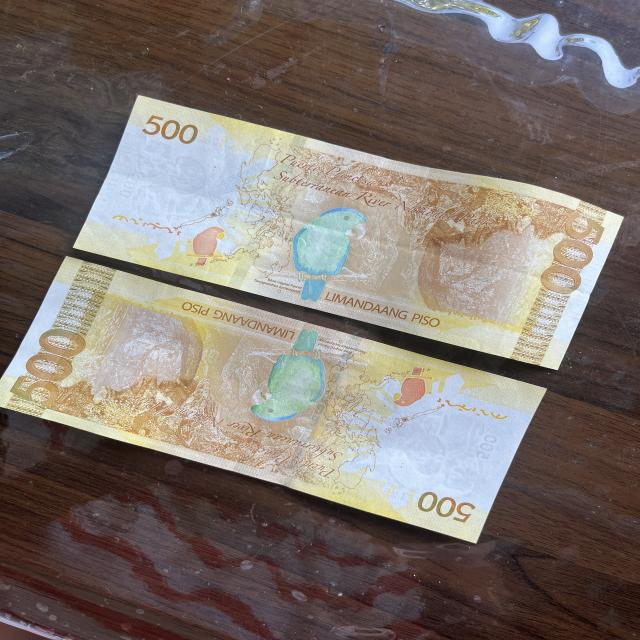500_big_parrot: (284, 205, 371, 303), (250, 326, 332, 423)
500_parrot_watermark: (183, 225, 235, 270), (391, 366, 433, 407)
value_watermark: (114, 172, 146, 200), (473, 434, 504, 458)
watermark: (394, 414, 492, 494), (122, 143, 219, 222)
